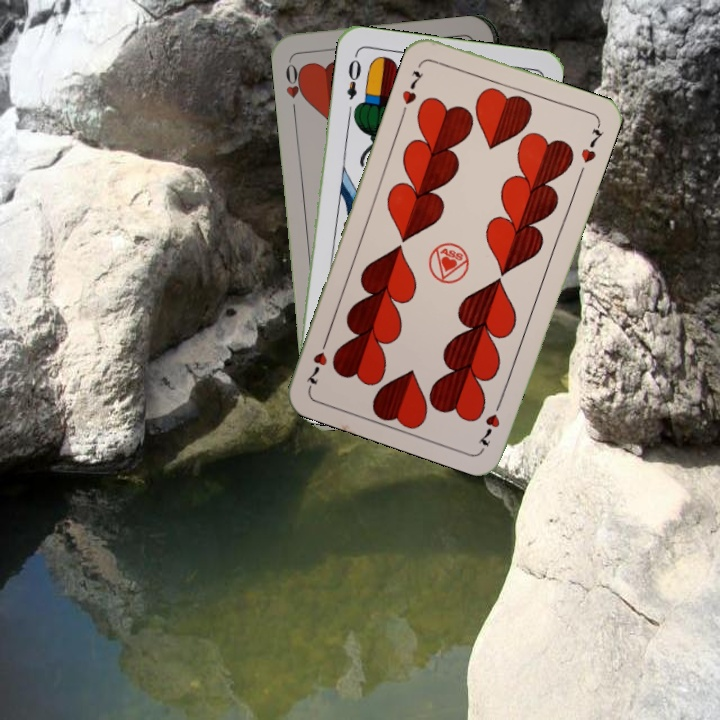EO: (343, 50, 364, 102)
H7: (474, 394, 506, 449), (398, 66, 426, 107)
HO: (281, 57, 309, 116)
